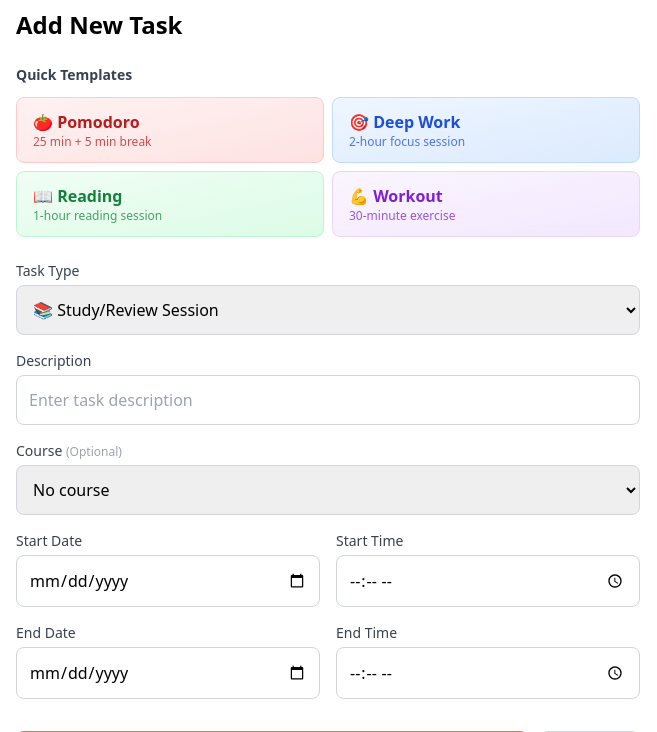
AddTaskComponent › Assignment Selection › resets assignment when course is changed
This screenshot has width=657, height=732.
Select "CSC491 - Capstone Project" in the dropdown below "Course": (328,490) left=16, top=465, right=640, bottom=515
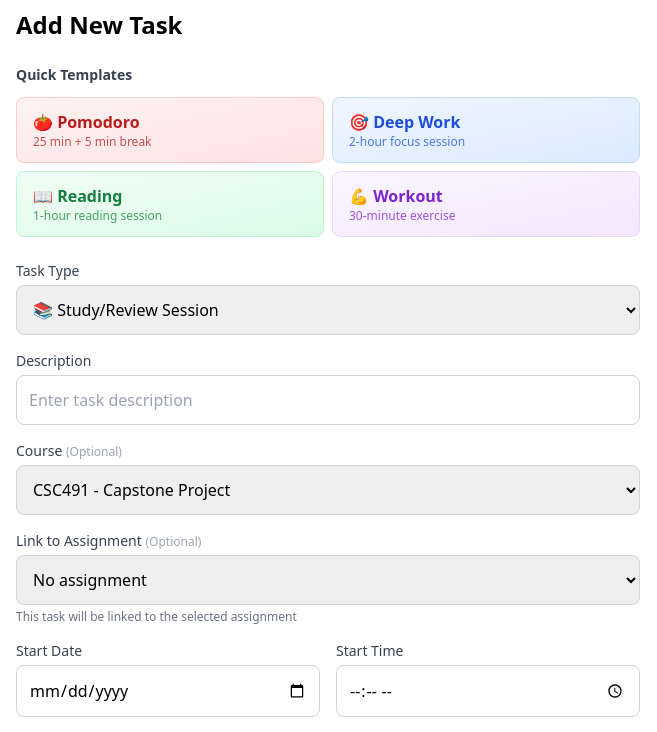
Select "No course" in the dropdown below "Course": (328,490) left=16, top=465, right=640, bottom=515
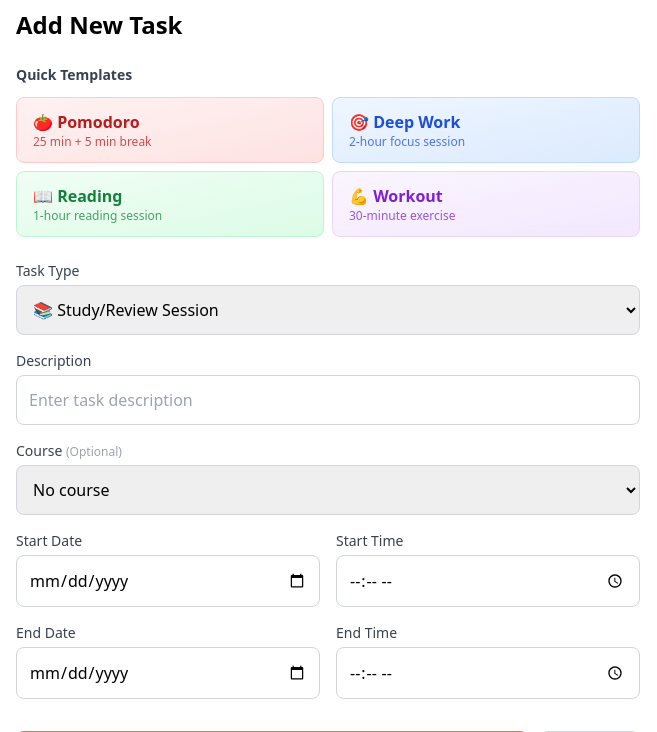
Now the text "Link to Assignment" is gone
